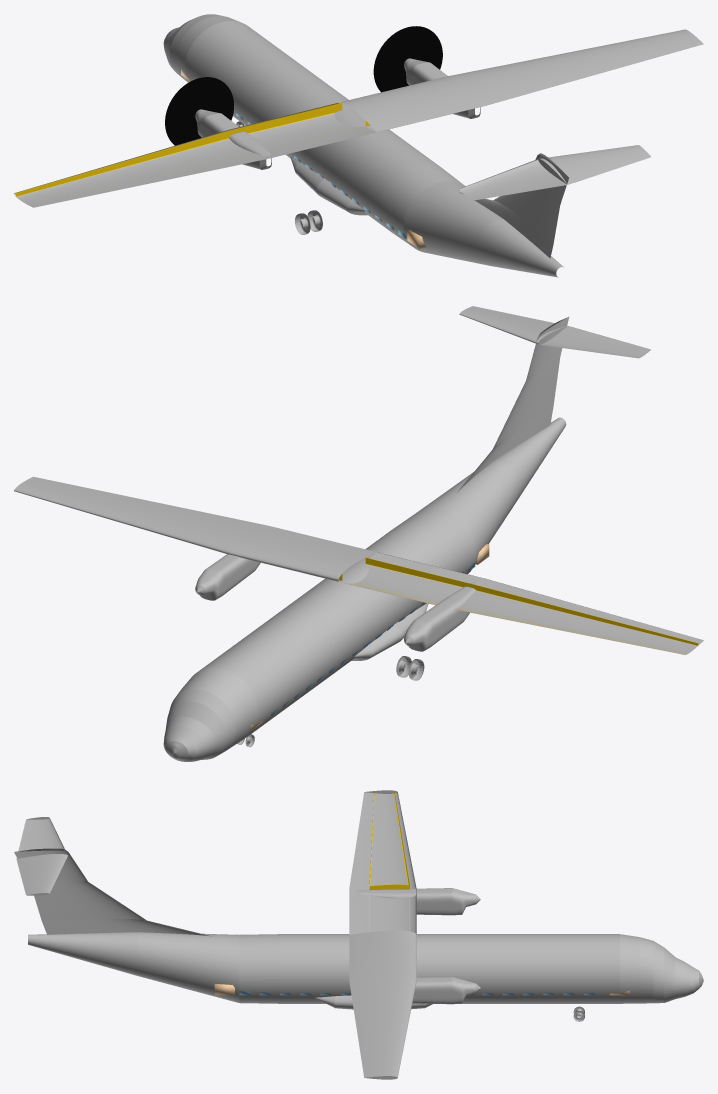
Rendered from ATR_72.gltf.
The picture shows the model from 3 angles, top to bottom: view 1: azimuth 30°, elevation 25°; view 2: azimuth 150°, elevation 25°; view 3: azimuth 270°, elevation 25°; orthographic projection. The views are drawn at different scales.
Parts seen in each view (by area): view 1: Renderer Node; view 2: Renderer Node; view 3: Renderer Node.
Boxes of the visible parts, left/top/right/bottom form: Renderer Node: left=14, top=14, right=703, bottom=277; Renderer Node: left=14, top=306, right=703, bottom=761; Renderer Node: left=14, top=790, right=703, bottom=1079.
Size of the model in its own units: 27.12 by 7.68 by 27.68.
